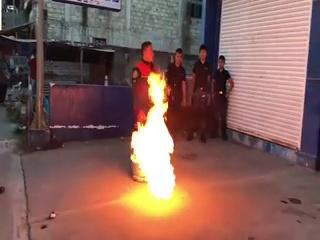Fire: (130, 70, 178, 201)
